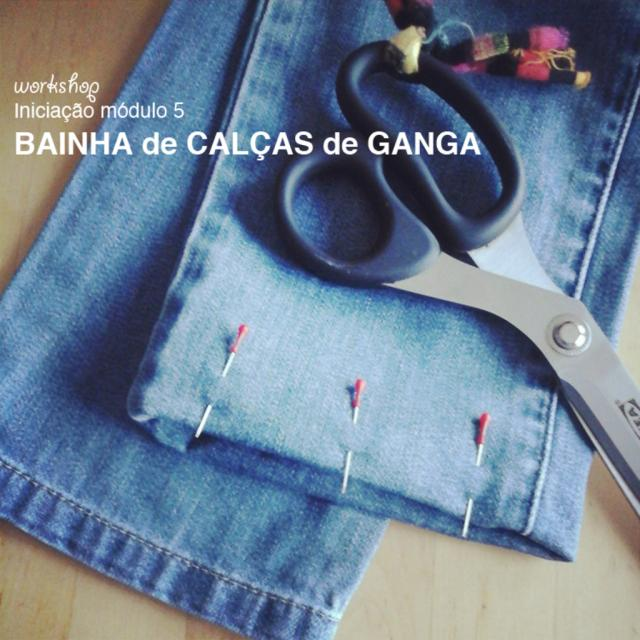scissors: (276, 31, 640, 536)
